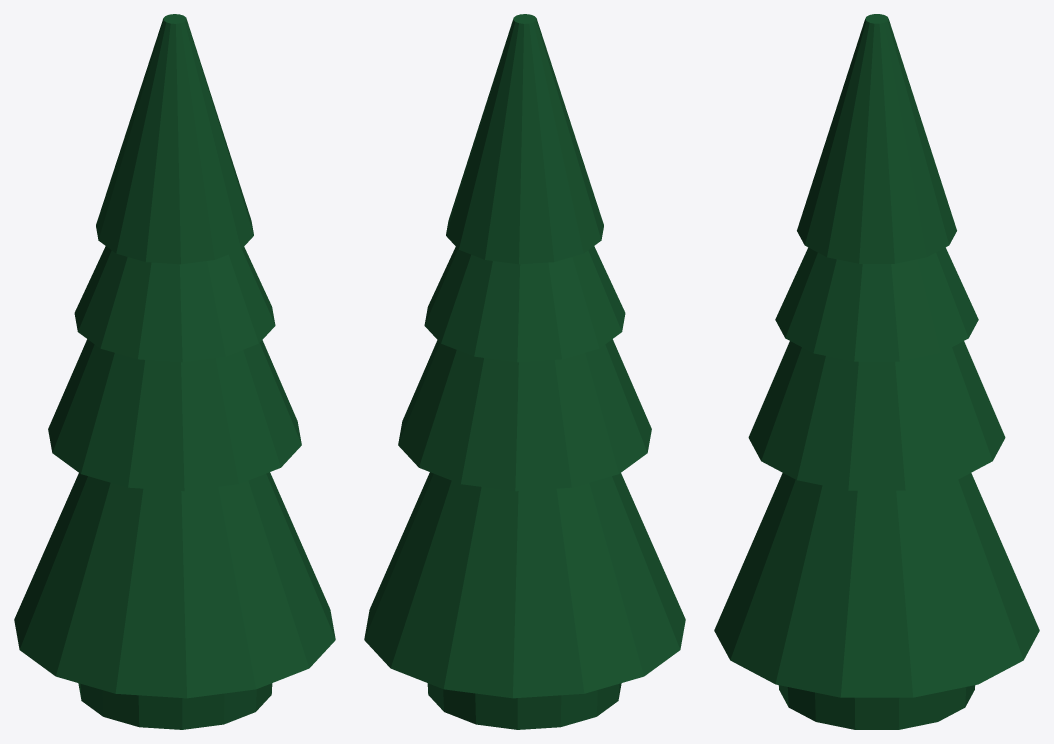
File: Pine.fbx
3 renders of one model, left to right at view 1: azimuth 30°, elevation 25°; view 2: azimuth 150°, elevation 25°; view 3: azimuth 270°, elevation 25°, orthographic.
Visible parts, largest first — view 1: Pine; view 2: Pine; view 3: Pine.
Part boxes in pixels (left/top/right/bottom): Pine: left=14, top=14, right=335, bottom=729; Pine: left=364, top=14, right=685, bottom=729; Pine: left=714, top=14, right=1039, bottom=729.
Size of the model in its own units: 244 by 569 by 250.
